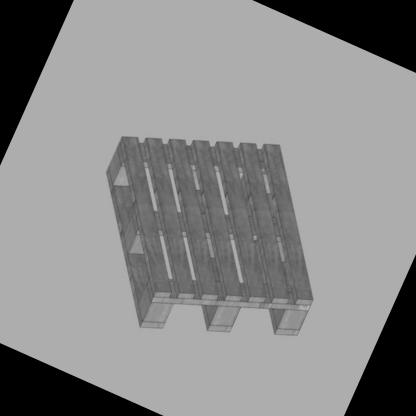BoxFace: (102, 133, 317, 342)
